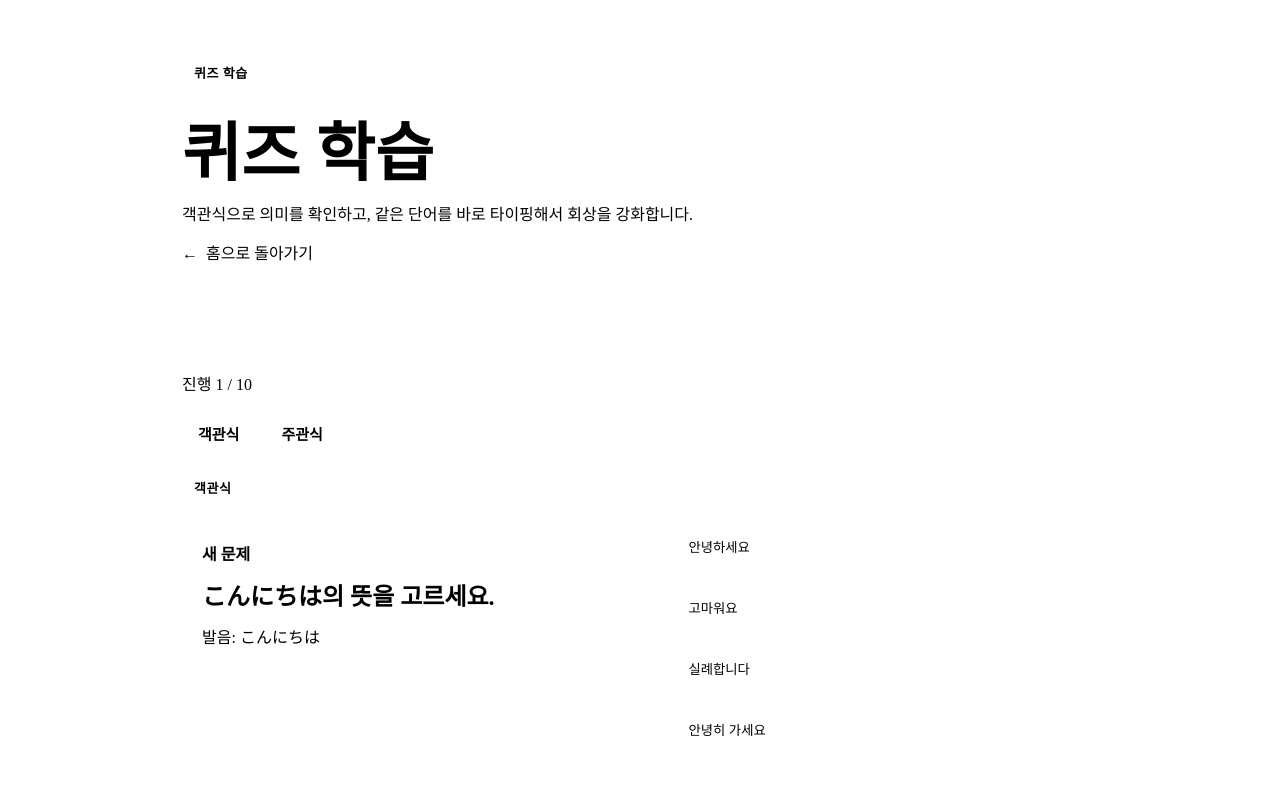
Test: quiz ui › submits a correct multiple choice answer
Expected: the text "발음: こんにちは" is shown, x1=202 y1=629 x2=320 y2=646
Click the button "안녕하세요".
click(719, 547)  # box x1=670 y1=521 x2=1098 y2=572
(page scrolled)
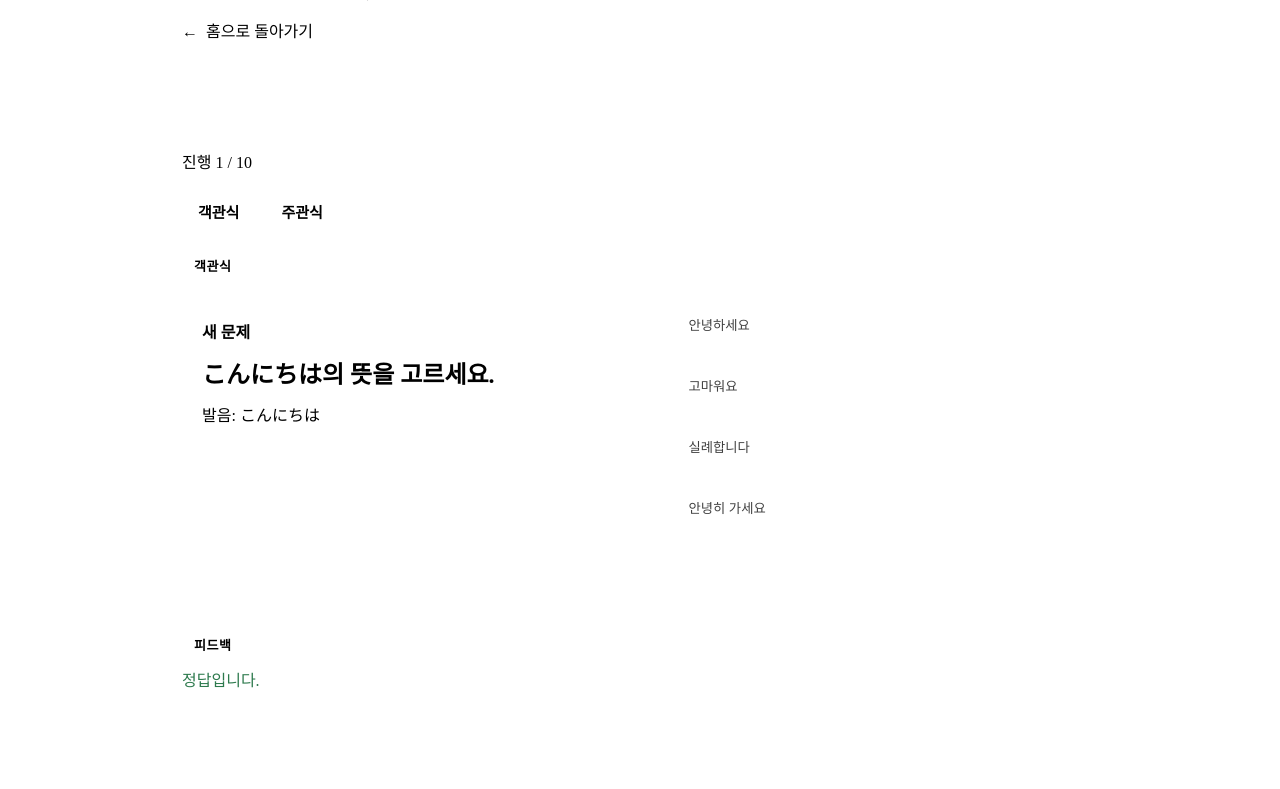
Expected: the message reads "정답입니다.", x1=182 y1=672 x2=260 y2=689
